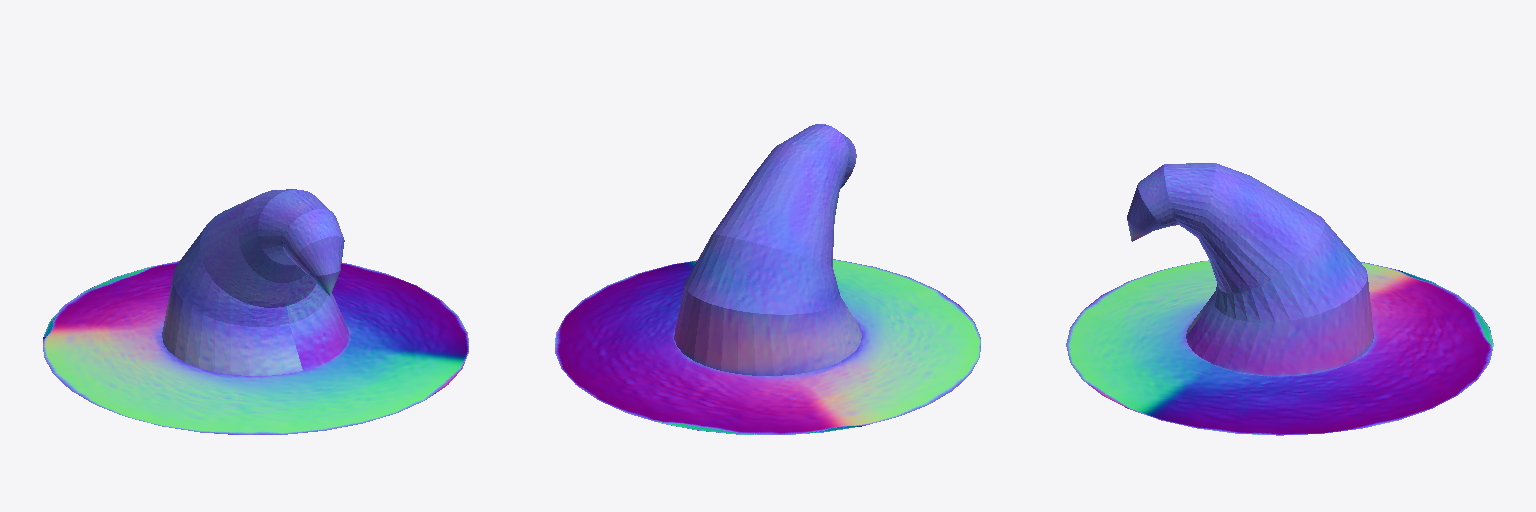
The picture shows the model from 3 angles: view 1: azimuth 30°, elevation 25°; view 2: azimuth 150°, elevation 25°; view 3: azimuth 270°, elevation 25°; orthographic projection.
Parts seen in each view (by area): view 1: low_Cone; view 2: low_Cone; view 3: low_Cone.
Boxes of the visible parts, x1=… form: low_Cone: x1=43, y1=189, x2=468, y2=434; low_Cone: x1=555, y1=124, x2=980, y2=434; low_Cone: x1=1066, y1=163, x2=1493, y2=435.
Bounding box in the file's own units: 3.9 × 1.8 × 3.9.
1 materials, 1 textured.